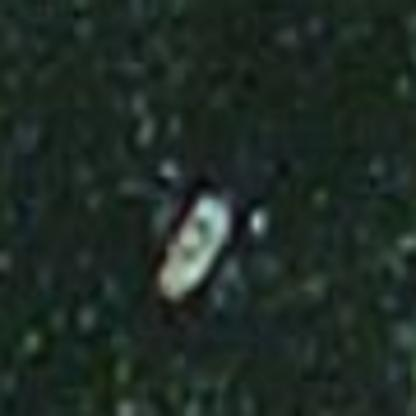ship: (146, 171, 246, 316)
